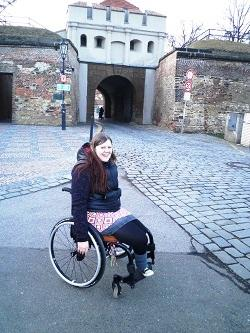wheelchair: (49, 132, 156, 299)
